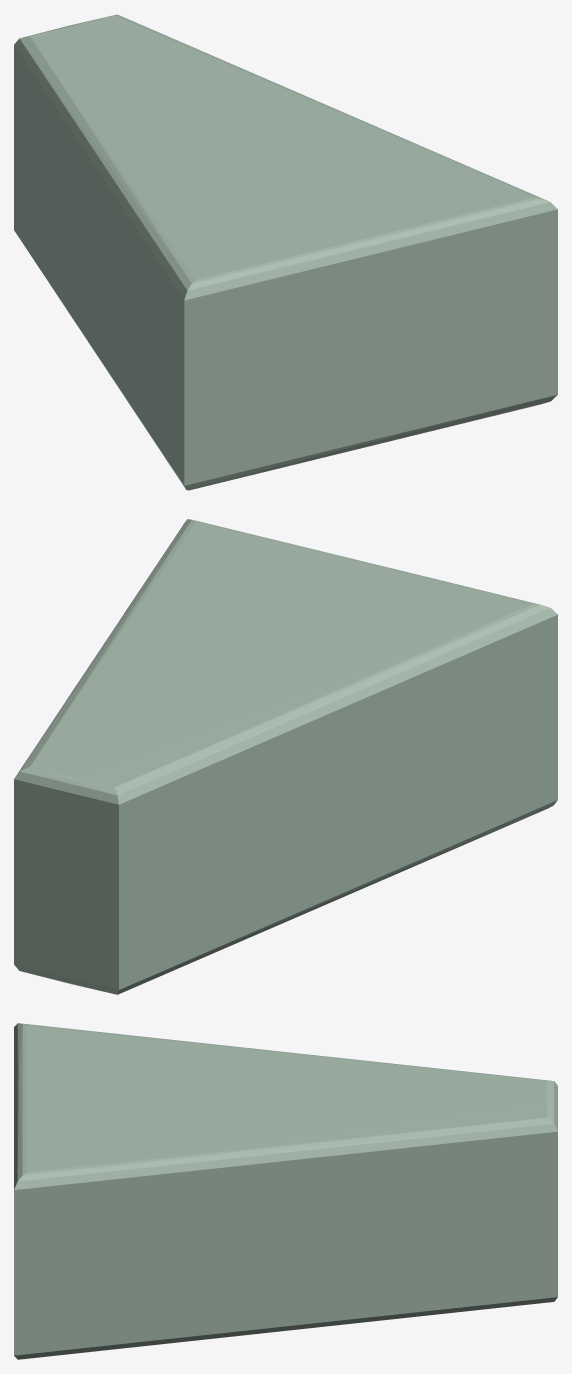
File: name-text-y-collider.glb
3 renders of one model, top to bottom at view 1: azimuth 30°, elevation 25°; view 2: azimuth 150°, elevation 25°; view 3: azimuth 270°, elevation 25°, orthographic. The views are drawn at different scales.
Visible parts, largest first — view 1: world; view 2: world; view 3: world.
Part boxes in pixels (x1,y1,x2,y2): world: [14, 14, 557, 490]; world: [14, 519, 557, 994]; world: [14, 1023, 557, 1359].
Size of the model in its own units: 0.7742 by 0.4103 by 1.09.
